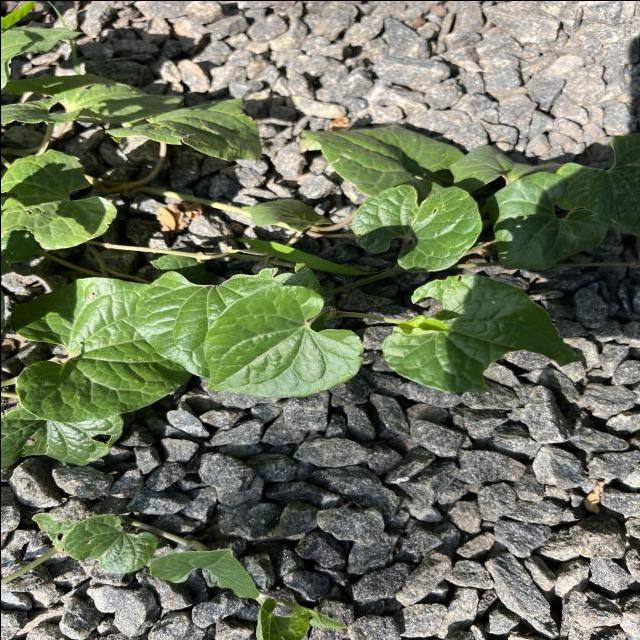Piper longum: (201, 282, 366, 399)
